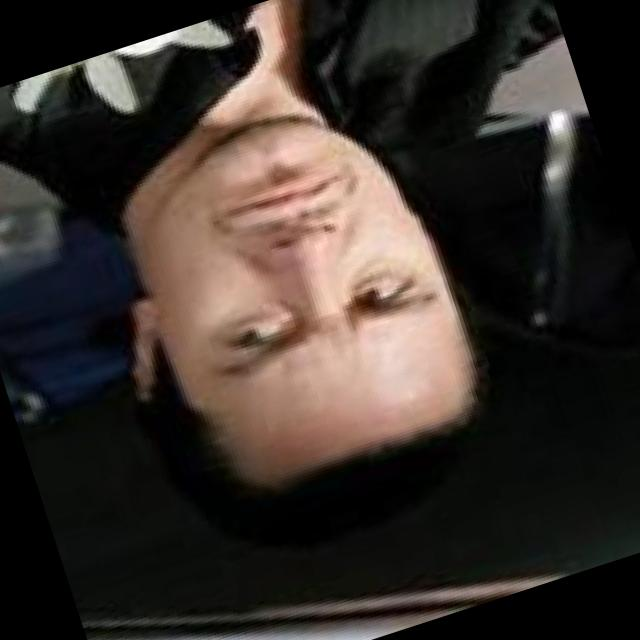bareface: (78, 85, 502, 520)
